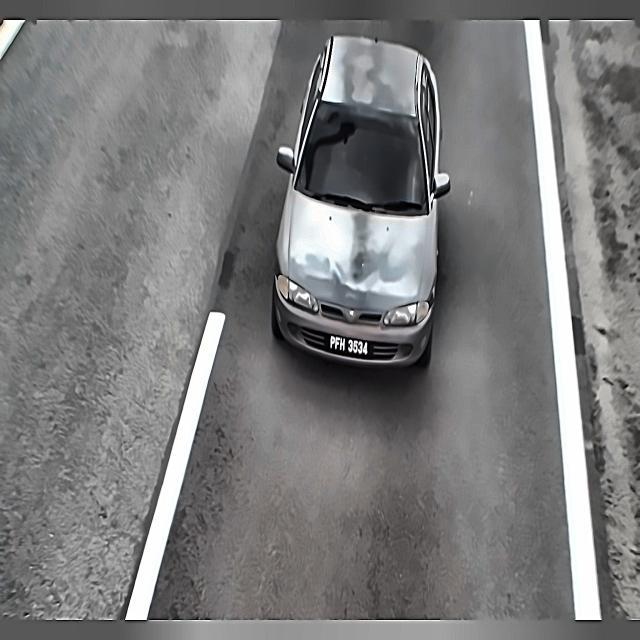car: (325, 330, 372, 364)
